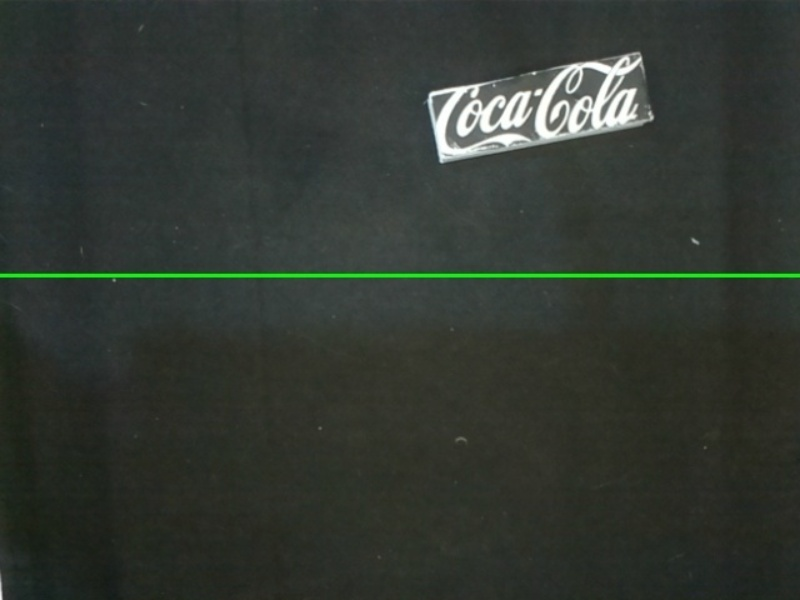coca-cola: (418, 48, 660, 162)
